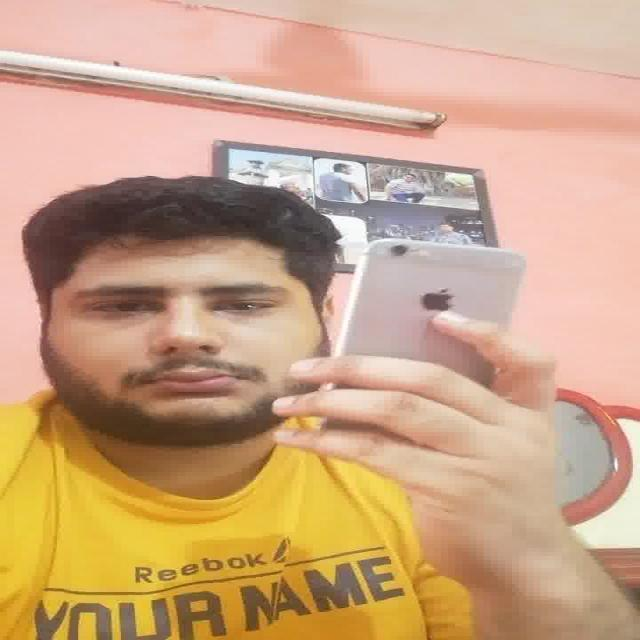Phone: (341, 237, 525, 391)
